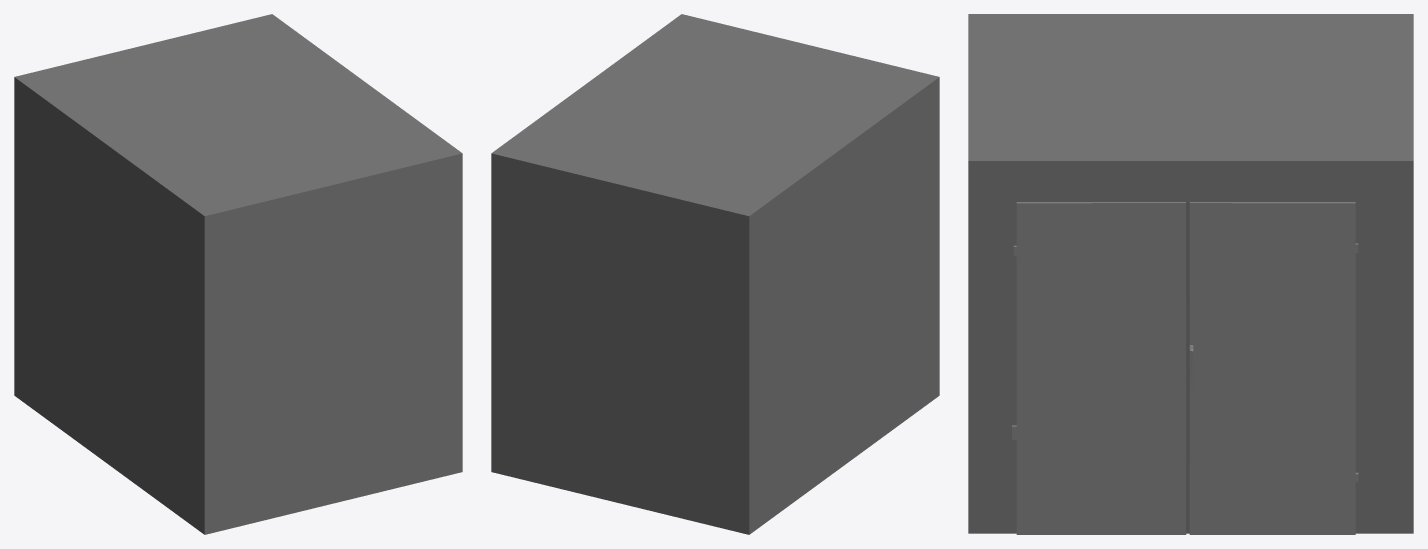
File: Garaze_2.fbx
3 renders of one model, left to right at view 1: azimuth 30°, elevation 25°; view 2: azimuth 150°, elevation 25°; view 3: azimuth 270°, elevation 25°, orthographic. The views are drawn at different scales.
Parts seen in each view (by area): view 1: Niebieski; view 2: Niebieski; view 3: Niebieski.
Boxes of the visible parts, x1,y1,x2,y2 form: Niebieski: (14,14,462,534); Niebieski: (491,14,939,534); Niebieski: (968,14,1413,534).
Size of the model in its own units: 256 by 236 by 208.
